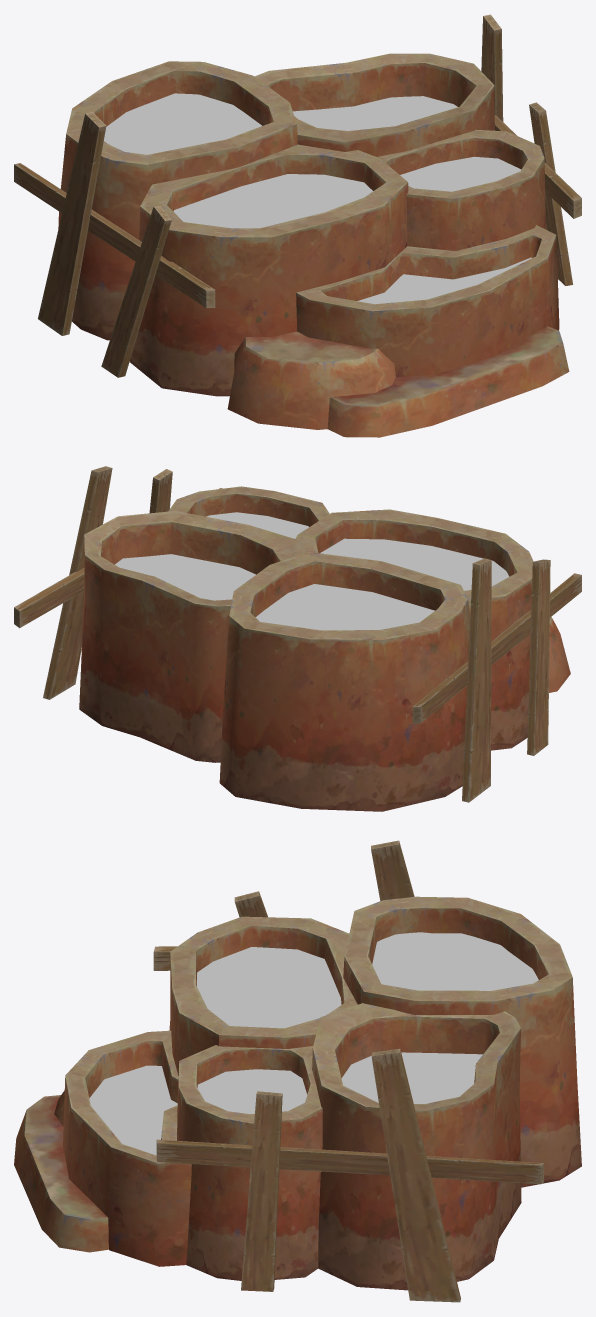
Rendered from Homeworld_Exterior_Xm_Decoration_Prop_Rangang_01_Lod0.fbx.
3 views of the same model, one above another, from view 1: azimuth 30°, elevation 25°; view 2: azimuth 150°, elevation 25°; view 3: azimuth 270°, elevation 25° (orthographic). The views are drawn at different scales.
Parts seen in each view (by area): view 1: Area_Xm_Prop_ARC_Rangang_01_Lod0, Eff_Stages_WaterPlane_Xm_ARC_Rangang_03_Vo, Eff_Stages_WaterPlane_Xm_ARC_Rangang_01_Vo, Eff_Stages_WaterPlane_Xm_ARC_Rangang_02_Vo, Eff_Stages_WaterPlane_Xm_ARC_Rangang_04_Vo, Eff_Stages_WaterPlane_Xm_ARC_Rangang_05_Vo; view 2: Area_Xm_Prop_ARC_Rangang_01_Lod0, Eff_Stages_WaterPlane_Xm_ARC_Rangang_01_Vo, Eff_Stages_WaterPlane_Xm_ARC_Rangang_03_Vo, Eff_Stages_WaterPlane_Xm_ARC_Rangang_02_Vo, Eff_Stages_WaterPlane_Xm_ARC_Rangang_04_Vo; view 3: Area_Xm_Prop_ARC_Rangang_01_Lod0, Eff_Stages_WaterPlane_Xm_ARC_Rangang_03_Vo, Eff_Stages_WaterPlane_Xm_ARC_Rangang_01_Vo, Eff_Stages_WaterPlane_Xm_ARC_Rangang_05_Vo, Eff_Stages_WaterPlane_Xm_ARC_Rangang_02_Vo, Eff_Stages_WaterPlane_Xm_ARC_Rangang_04_Vo.
Boxes of the visible parts, box(x1,y1,x2,y2) form: Area_Xm_Prop_ARC_Rangang_01_Lod0: box(14, 14, 581, 437); Eff_Stages_WaterPlane_Xm_ARC_Rangang_03_Vo: box(173, 174, 372, 228); Eff_Stages_WaterPlane_Xm_ARC_Rangang_01_Vo: box(104, 93, 261, 154); Eff_Stages_WaterPlane_Xm_ARC_Rangang_02_Vo: box(293, 96, 457, 130); Eff_Stages_WaterPlane_Xm_ARC_Rangang_04_Vo: box(400, 156, 521, 191); Eff_Stages_WaterPlane_Xm_ARC_Rangang_05_Vo: box(357, 257, 531, 304); Area_Xm_Prop_ARC_Rangang_01_Lod0: box(14, 466, 581, 811); Eff_Stages_WaterPlane_Xm_ARC_Rangang_01_Vo: box(255, 584, 434, 630); Eff_Stages_WaterPlane_Xm_ARC_Rangang_03_Vo: box(320, 538, 509, 590); Eff_Stages_WaterPlane_Xm_ARC_Rangang_02_Vo: box(115, 554, 255, 600); Eff_Stages_WaterPlane_Xm_ARC_Rangang_04_Vo: box(206, 512, 308, 538); Area_Xm_Prop_ARC_Rangang_01_Lod0: box(14, 840, 581, 1302); Eff_Stages_WaterPlane_Xm_ARC_Rangang_03_Vo: box(197, 947, 341, 1028); Eff_Stages_WaterPlane_Xm_ARC_Rangang_01_Vo: box(372, 932, 538, 990); Eff_Stages_WaterPlane_Xm_ARC_Rangang_05_Vo: box(89, 1065, 177, 1155); Eff_Stages_WaterPlane_Xm_ARC_Rangang_02_Vo: box(341, 1052, 482, 1103); Eff_Stages_WaterPlane_Xm_ARC_Rangang_04_Vo: box(197, 1069, 307, 1113).
Size of the model in its own units: 2.8 by 1.33 by 2.87.
